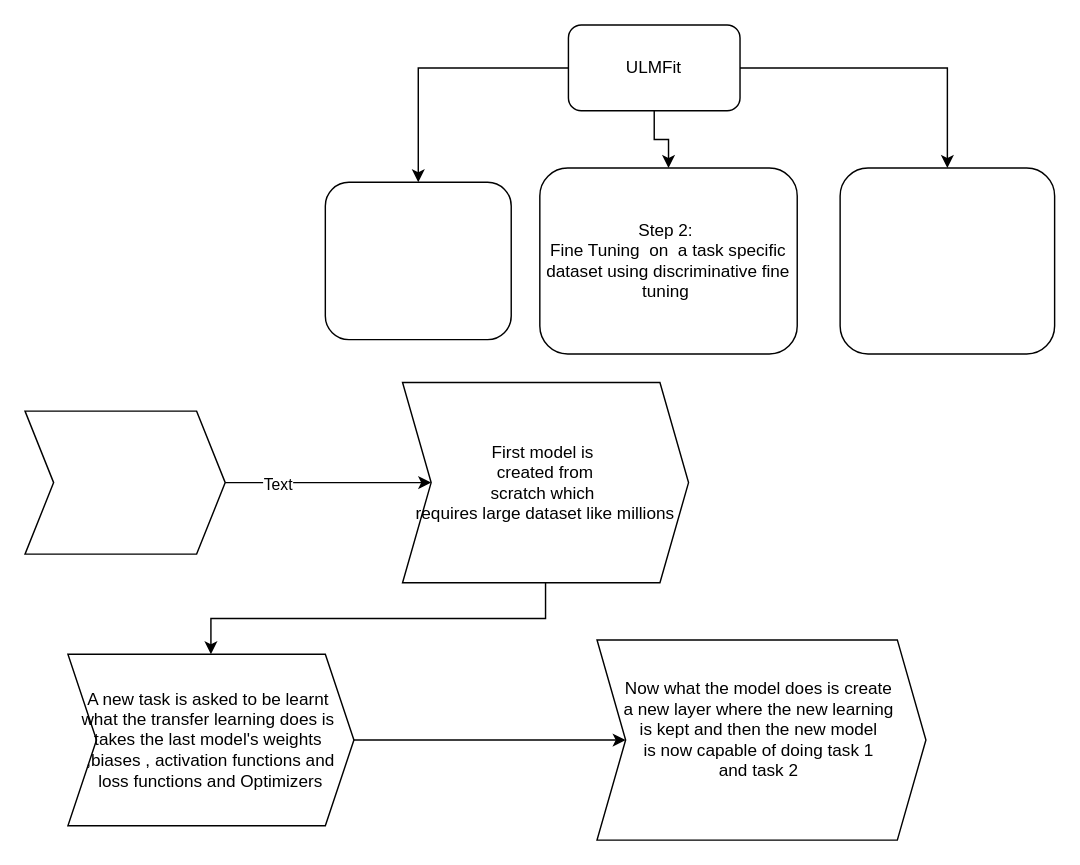
The diagram is 1080 pixels wide and 865 high, and some of its shapes have lost their labels. Each missing label, with the centre of its shape:
"Step 1 : Pre training training large corpus to capture broad language knowledge" belongs at point 417,260.
"Step 3: Gradual unfreezing to adapt model while preserving" belongs at point 947,260.
"Transfer Learning" belongs at point 124,482.
